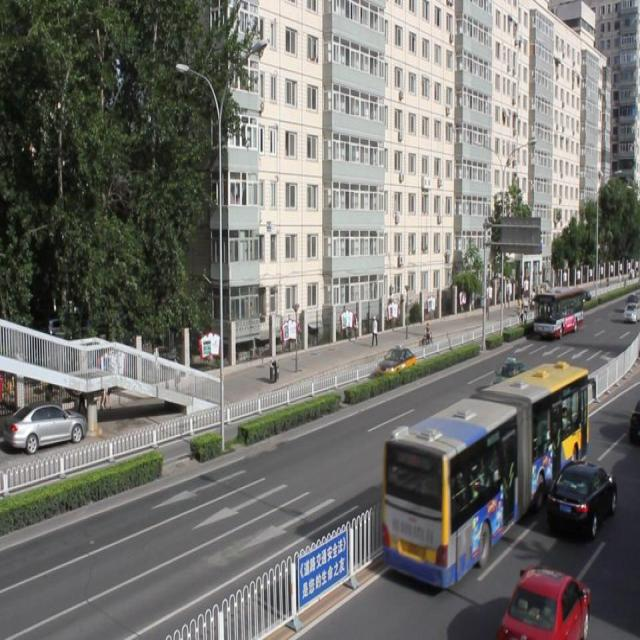car: (501, 565, 586, 640), (547, 458, 613, 534), (489, 358, 528, 404), (378, 344, 416, 381)
van: (382, 363, 585, 589)
